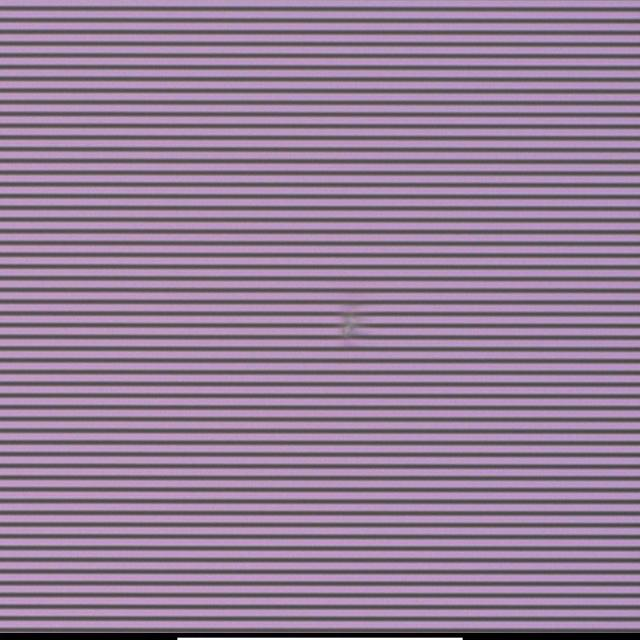nonvisual: (338, 309, 361, 340)
